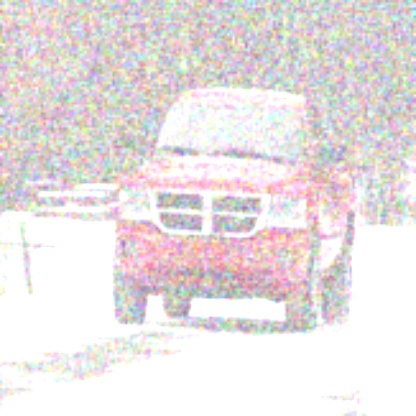Vehicle: (111, 82, 361, 337)
